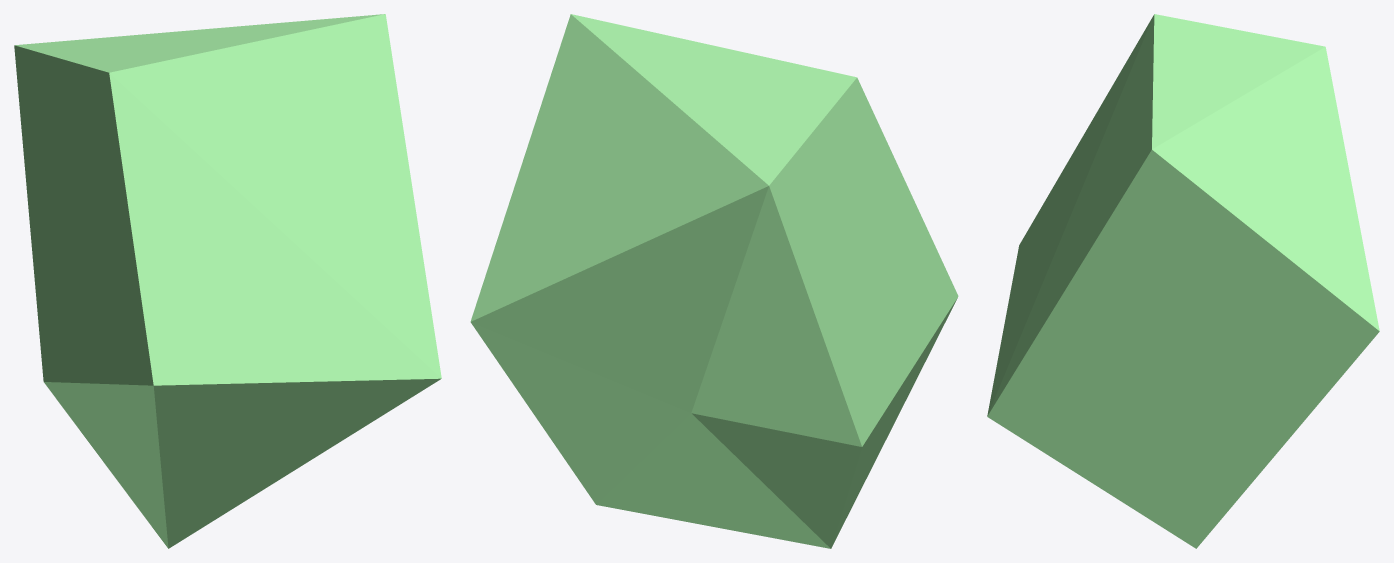
Rendered from UMIRobot_UMIRobot_link_5_convex_coll_51.dae.
3 views of the same model, side by side, from view 1: azimuth 30°, elevation 25°; view 2: azimuth 150°, elevation 25°; view 3: azimuth 270°, elevation 25° (orthographic). The views are drawn at different scales.
Parts seen in each view (by area): view 1: node; view 2: node; view 3: node.
Part boxes in pixels (x1,y1,x2,y2): node: [14, 14, 441, 548]; node: [470, 14, 958, 548]; node: [987, 14, 1379, 548].
Bounding box in the file's own units: 0.00339 × 0.00495 × 0.00389.
